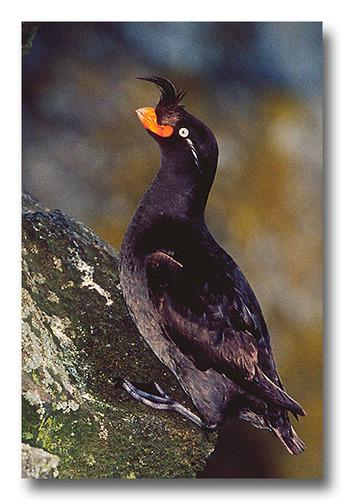005.Crested_Auklet: (117, 72, 310, 460)
